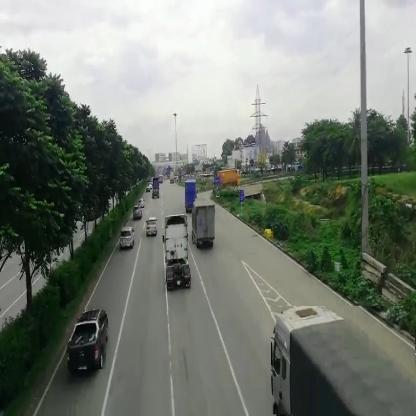car: (71, 310, 107, 371), (119, 228, 136, 251), (146, 217, 157, 238), (133, 209, 143, 220), (139, 198, 145, 208)
container: (165, 215, 191, 289), (217, 170, 243, 188), (186, 180, 196, 210)
truck: (272, 307, 416, 416), (193, 202, 217, 246)
